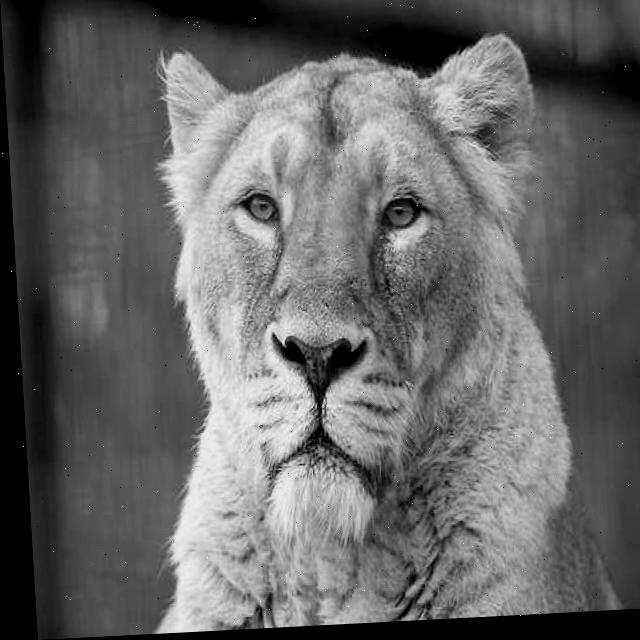Lion: (148, 21, 640, 608)
